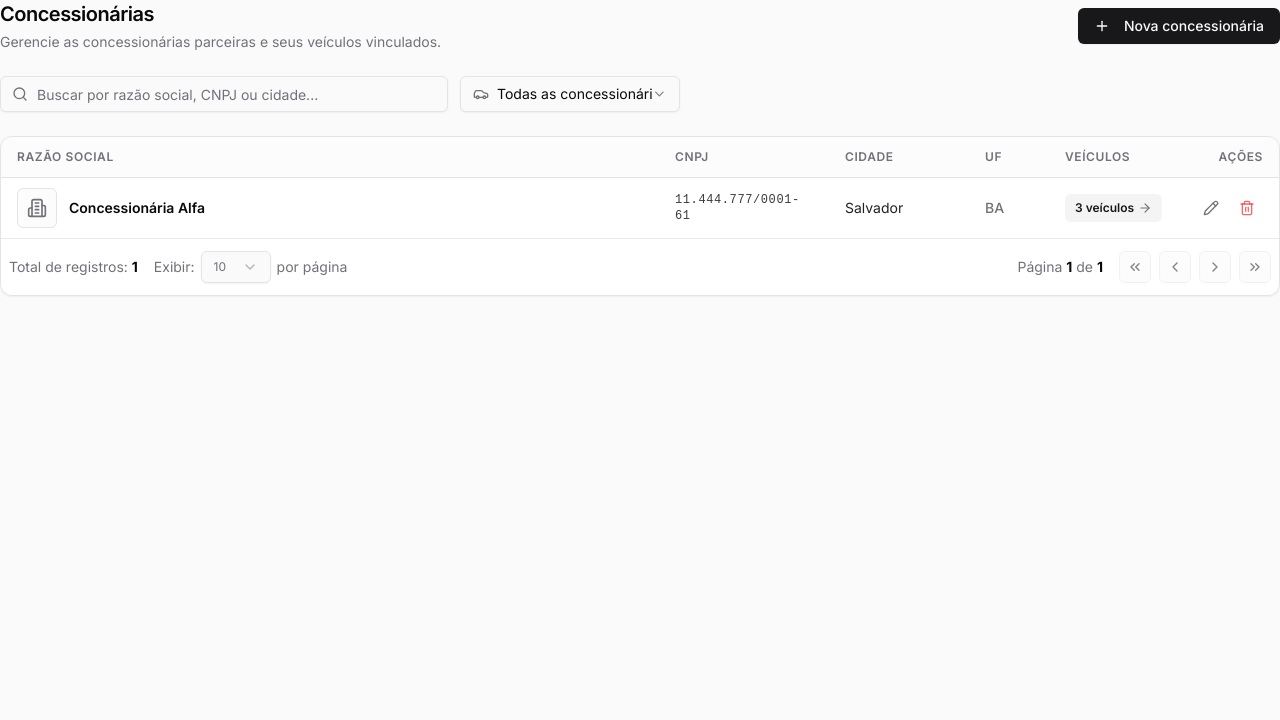
Test case: DealersPage › should open delete dialog when delete button is clicked in row
Click the button named "Excluir concessionária Concessionária Alfa".
click(1247, 208)  # box [1231,192,1263,224]
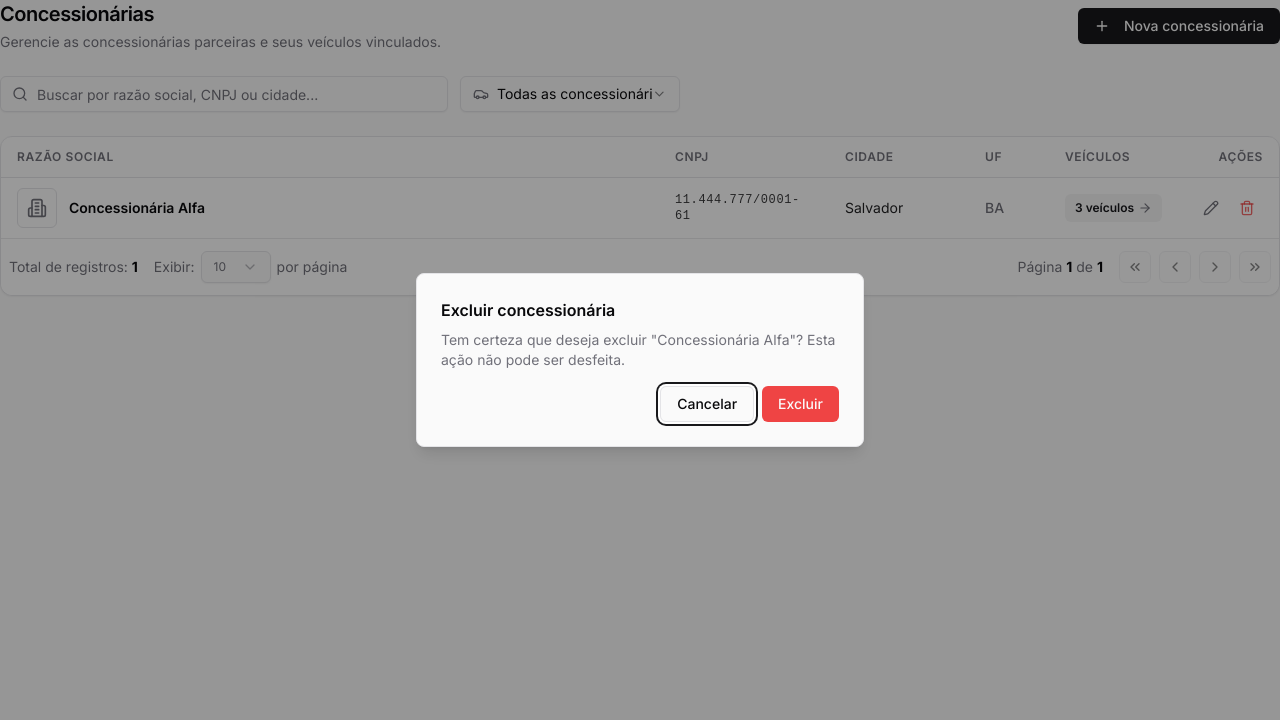
Now the dialog is shown, box [416,273,864,447]
Now the heading "Excluir concessionária" is shown, box [441,300,615,320]
